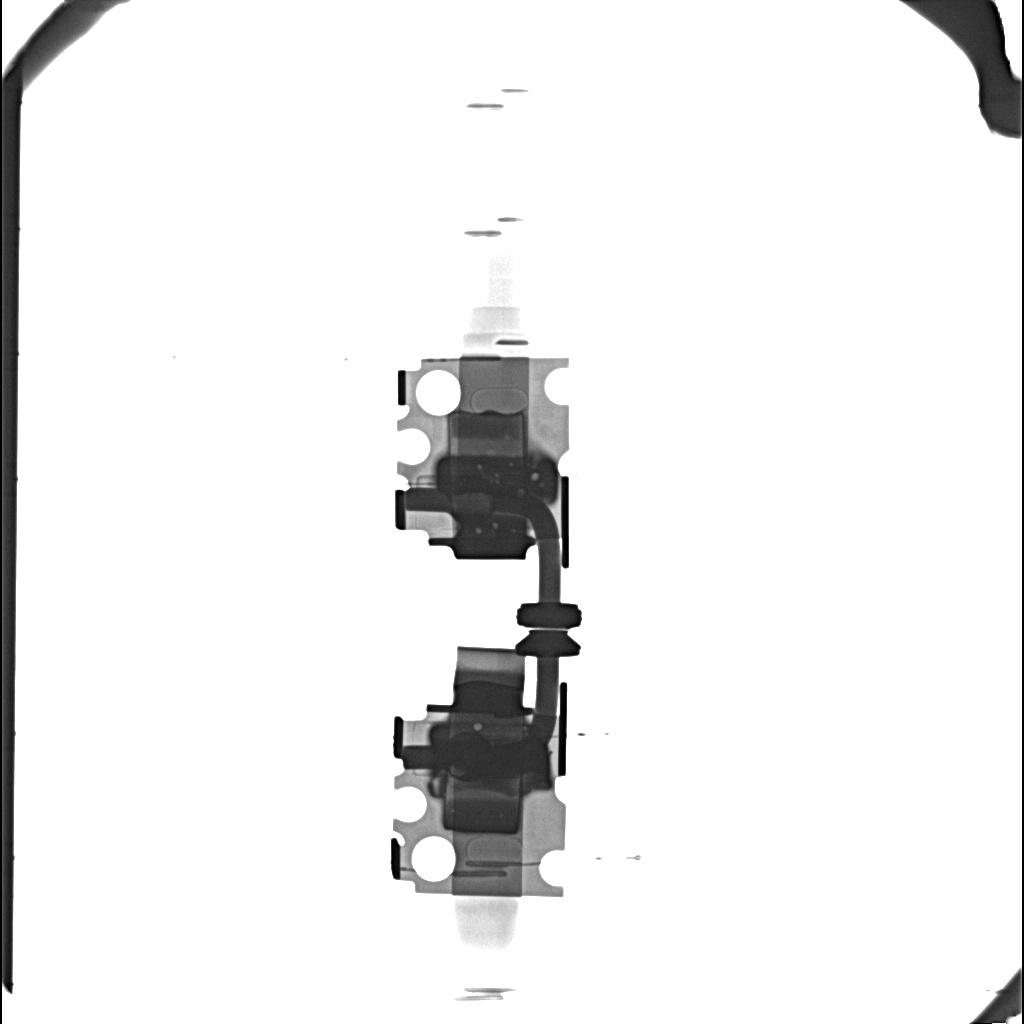PX: (442, 777, 522, 836), (448, 411, 525, 454)
QP: (474, 721, 482, 731)
SX: (430, 728, 549, 779), (436, 455, 557, 501)
